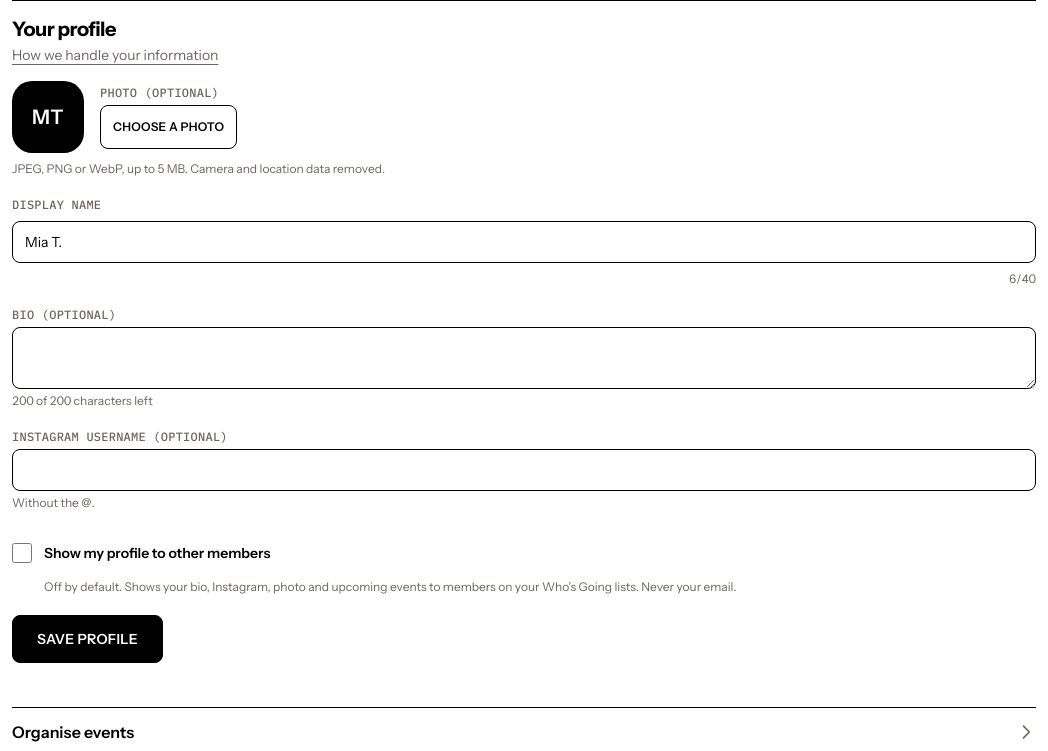
AccountContent › saves the name and the rest in one press (one request), with the API's errors on each field
Replace the text in the field labelled "Display name" with "mia.com" at (524, 242), box [12,221,1036,263]
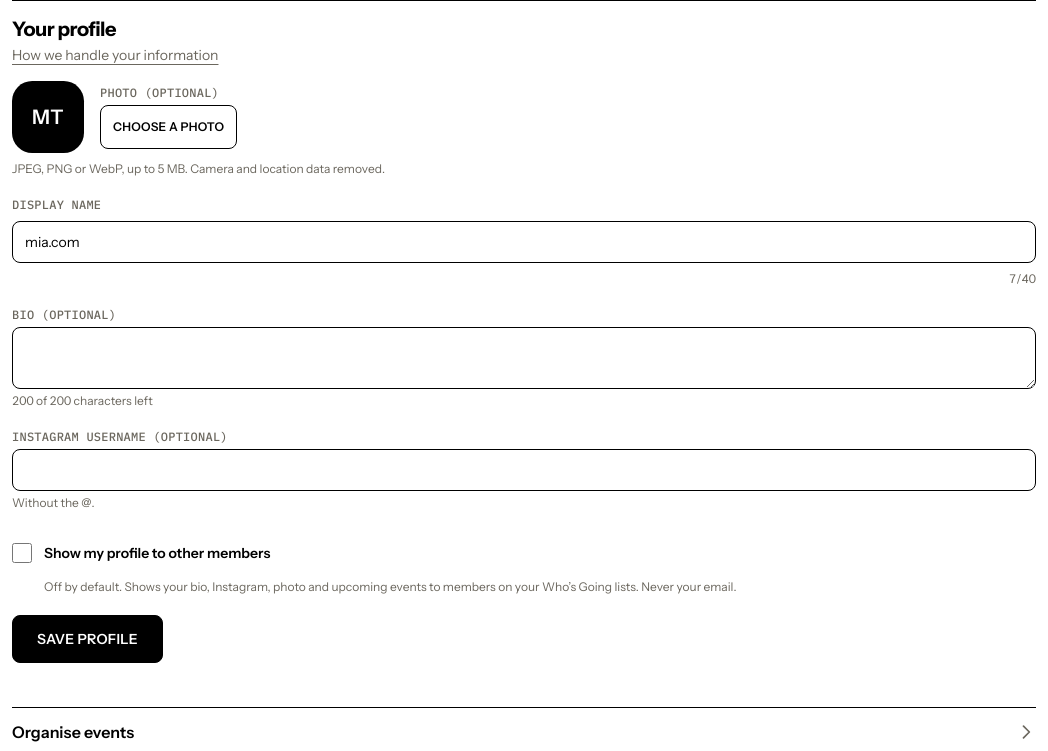
Type "Hi" into the text box labelled "Bio (optional)" at (524, 358), box [12,327,1036,389]
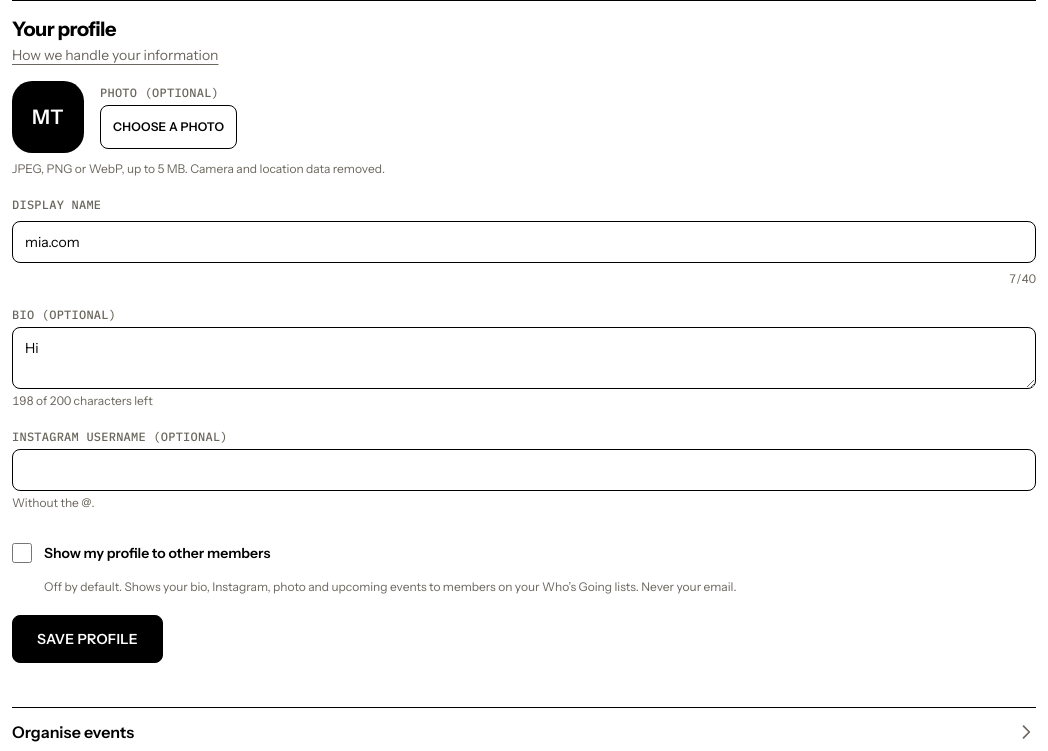
Click the checkbox labelled "Show my profile to other members" at (22, 553), box [12,543,32,563]
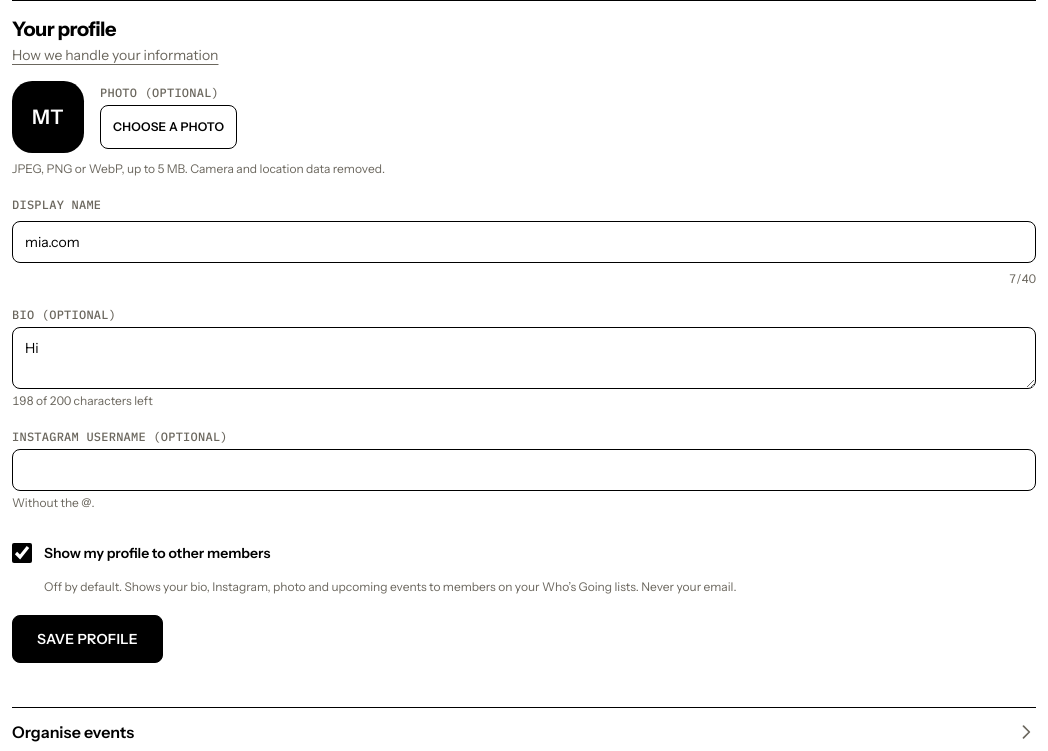
Click the button "Save profile" at (87, 639), box [12,615,163,663]
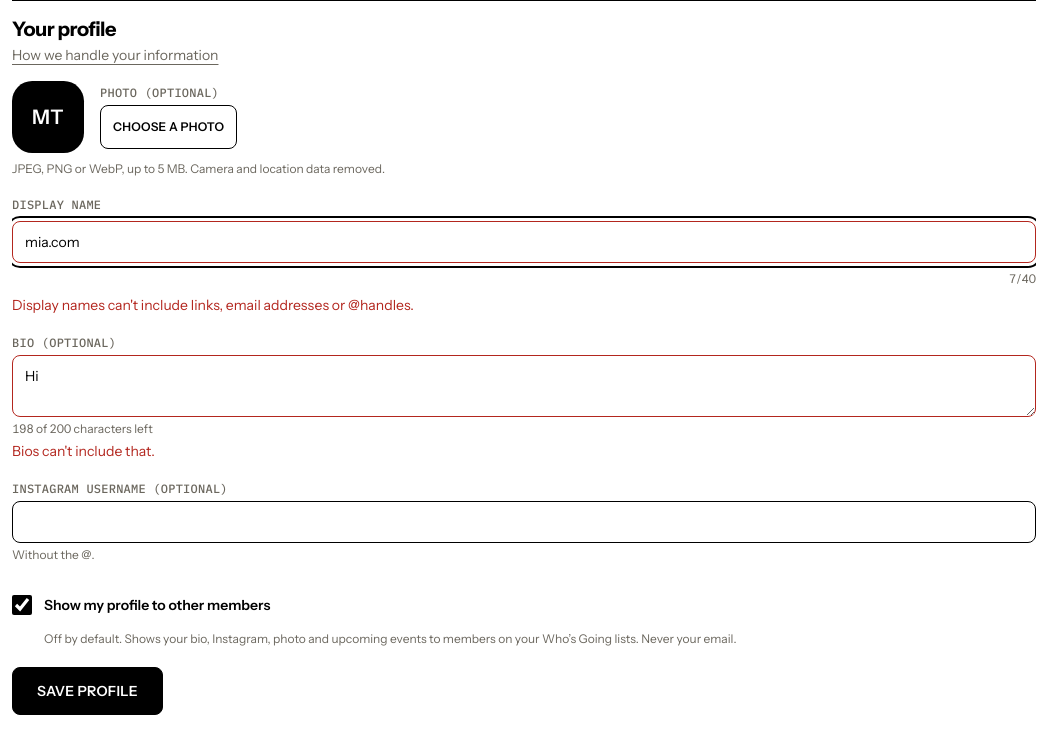
Result: the text box labelled "Bio (optional)" is marked as invalid at [12,355,1036,417]
Replace the text in the field labelled "Display name" with "Mia Thompson" at (524, 242), box [12,221,1036,263]
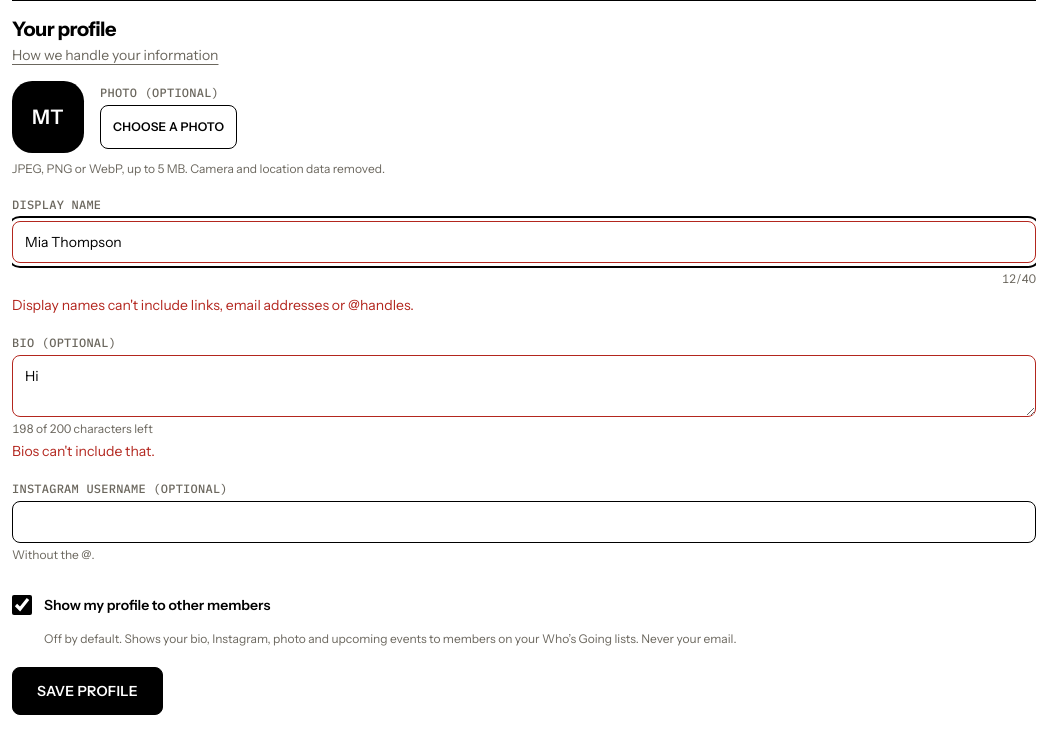
Click the button "Save profile" at (87, 691), box [12,667,163,715]
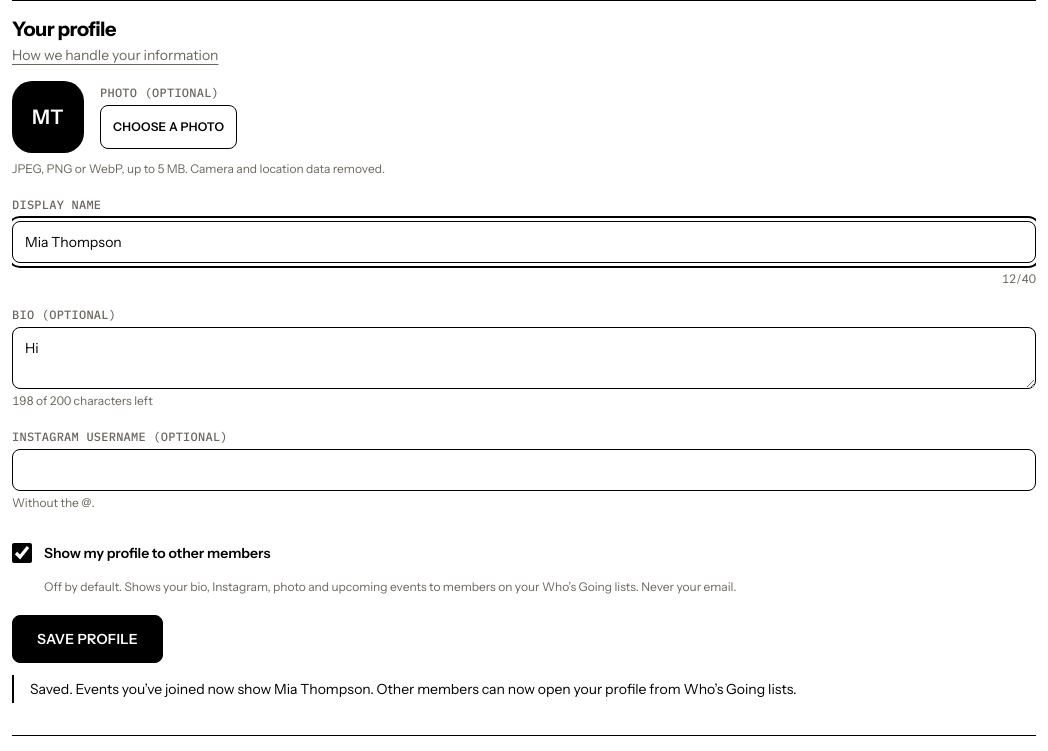
Result: the message shows "Saved. Events you’ve joined now show Mia Thompson. Other members can now open your profile from Who’s Going lists." at [30,680,796,698]
